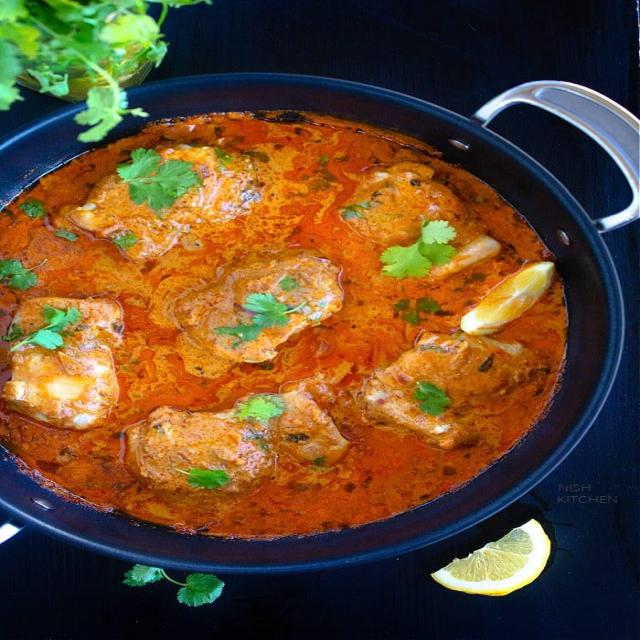chicken: (0, 125, 523, 523)
